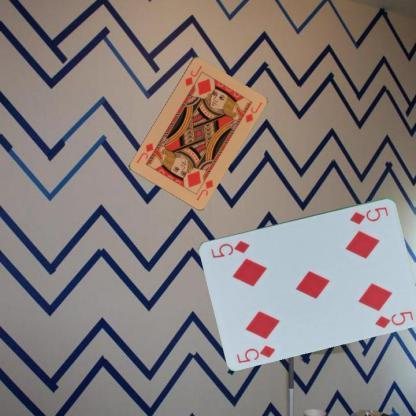5d: (347, 204, 390, 226), (234, 342, 277, 364)
Jd: (182, 62, 204, 88), (193, 176, 214, 202)
